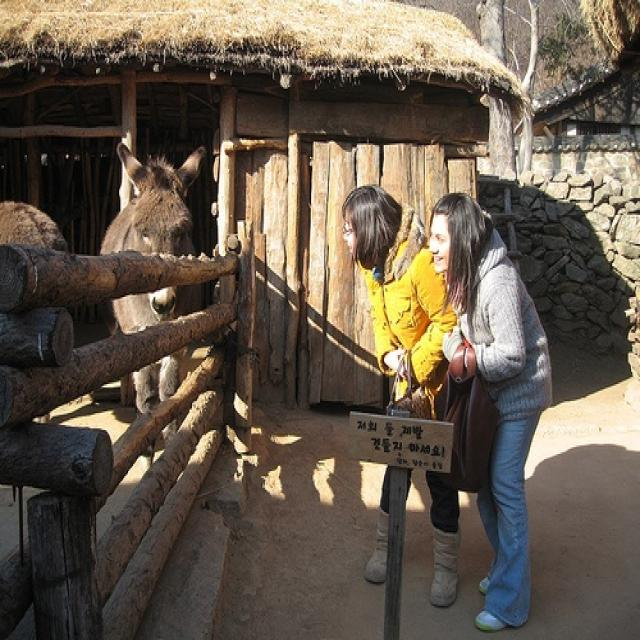horse: (91, 129, 214, 487)
person: (329, 177, 470, 612), (422, 187, 558, 636)
